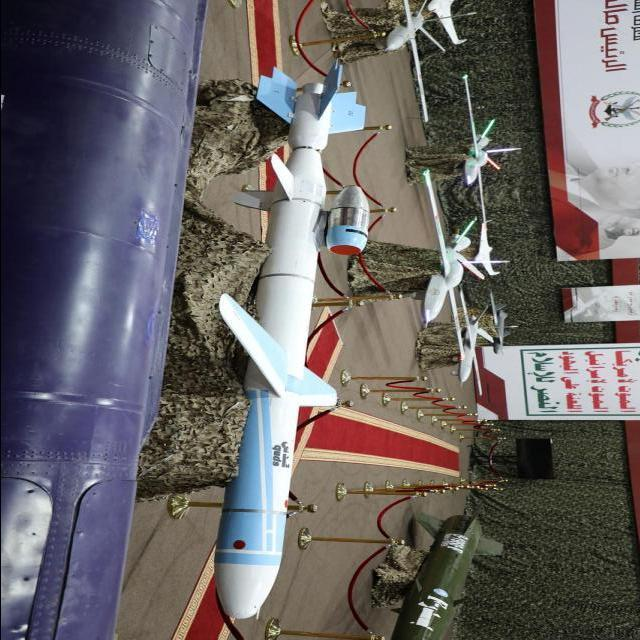missile: (216, 55, 366, 628)
